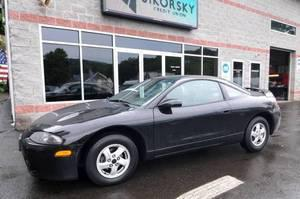Car: (11, 68, 288, 186)
